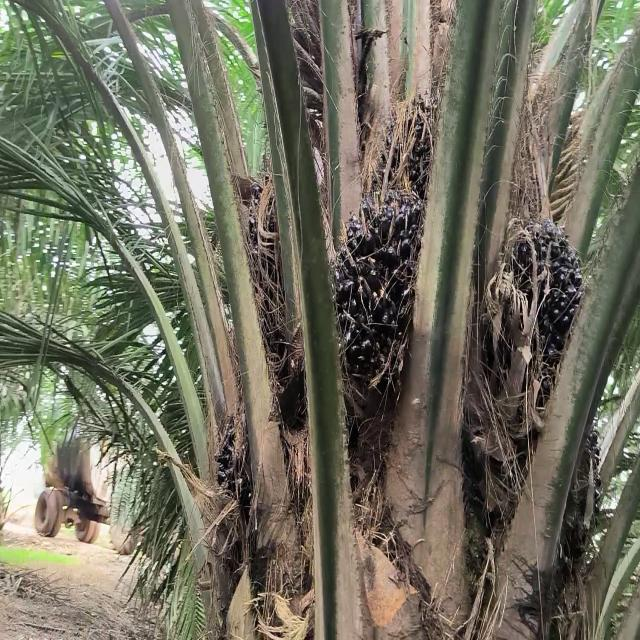palm-oil: (325, 92, 439, 468), (476, 215, 583, 473), (250, 162, 328, 430)
